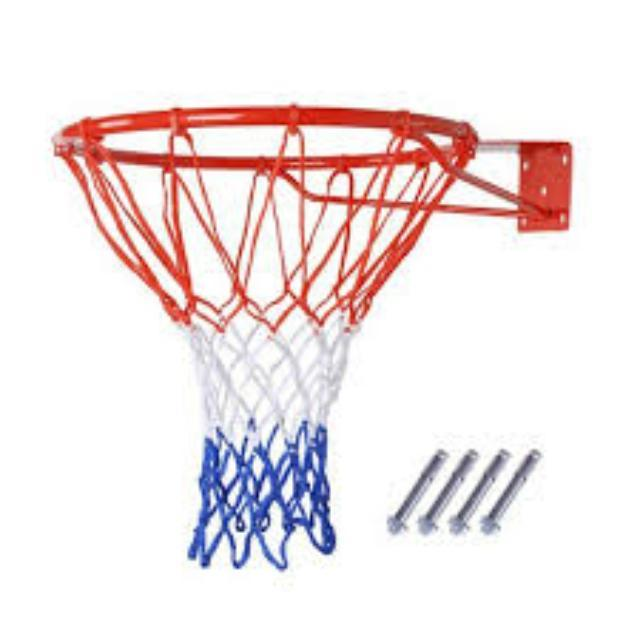rim: (52, 103, 478, 571)
